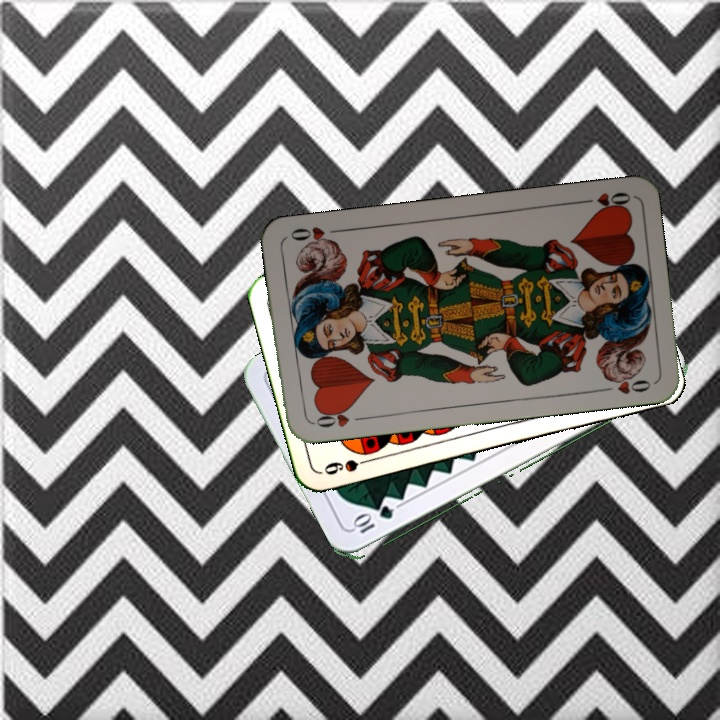G10: (350, 503, 396, 536)
HO: (307, 403, 367, 430), (574, 188, 633, 214)
S9: (319, 453, 378, 478)
